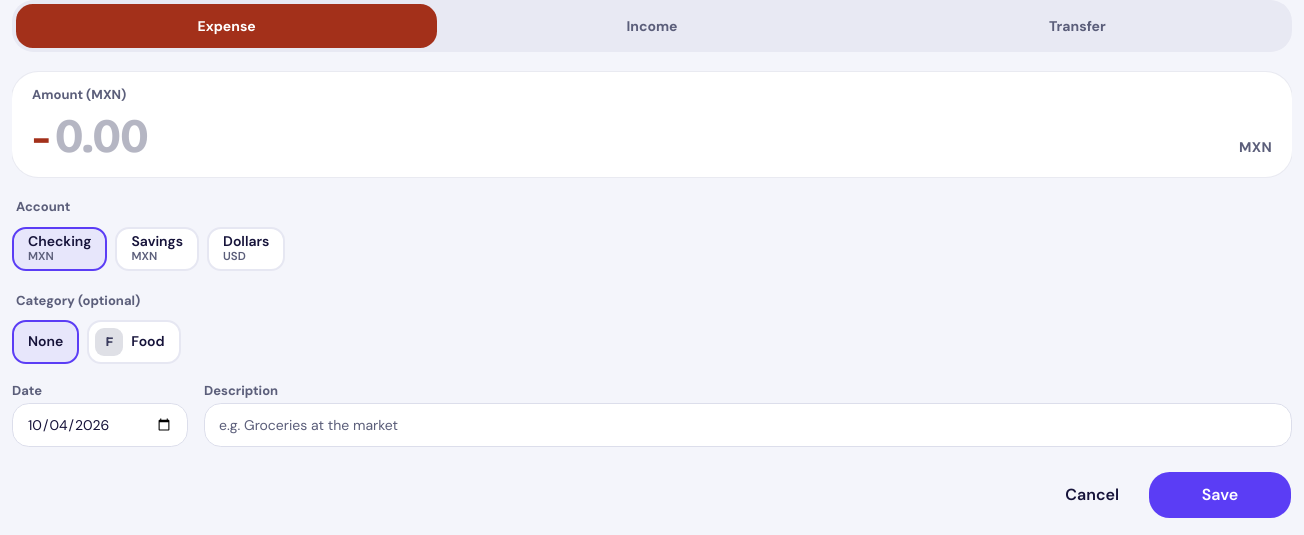
TransactionForm › hides archived accounts and categories and filters categories by type
Expected: the radio button labelled "Food" is shown, top-left (87, 320), bottom-right (181, 364)
Expected: the radio button labelled "None" is checked, top-left (12, 320), bottom-right (79, 364)
Click the radio button labelled "Income". click: (652, 26)
box: top-left (441, 4), bottom-right (863, 48)
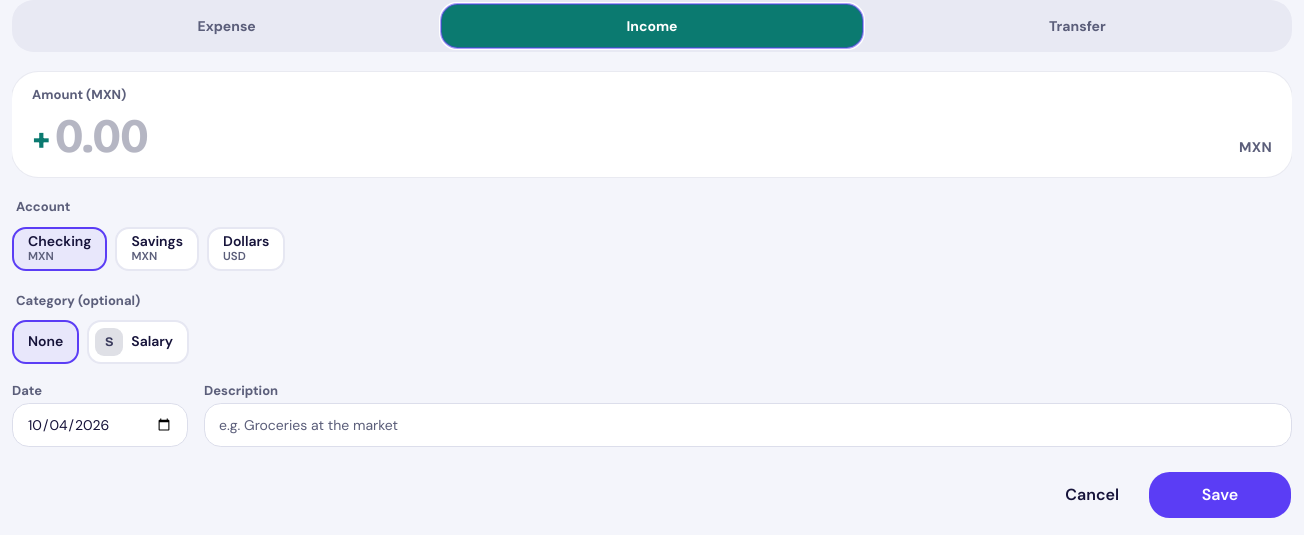
Expected: the text "Food" is gone
Expected: the radio button labelled "Salary" is shown, top-left (87, 320), bottom-right (189, 364)
